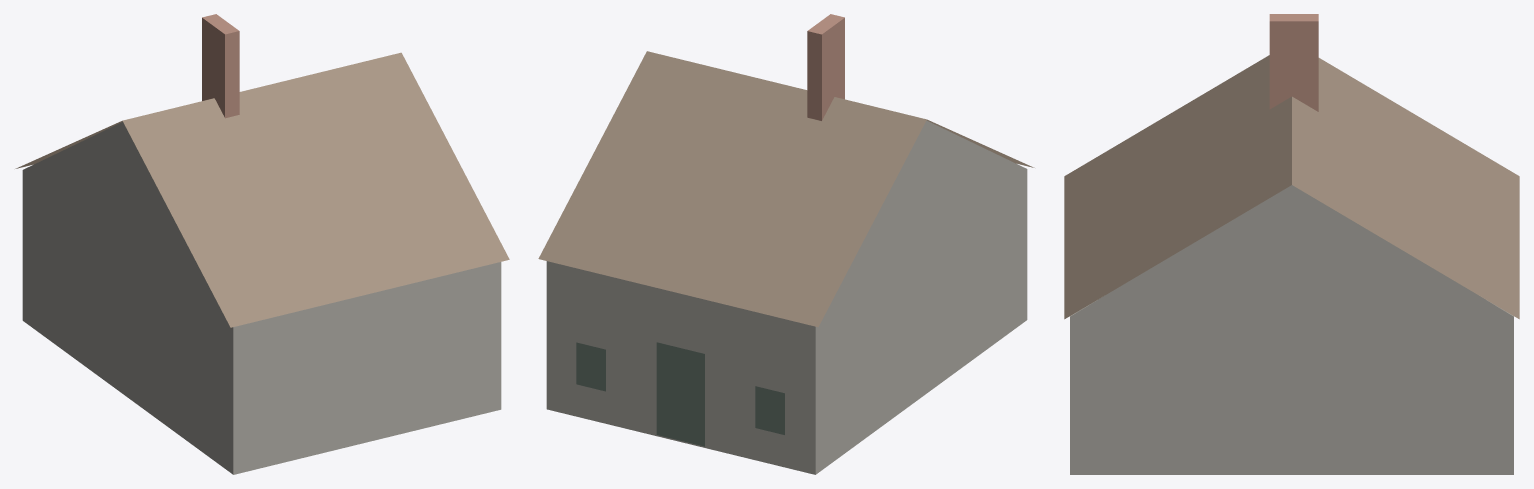
Rendered from recon_1835_north_d6_044__recommended_1835.glb.
3 renders of one model, left to right at view 1: azimuth 30°, elevation 25°; view 2: azimuth 150°, elevation 25°; view 3: azimuth 270°, elevation 25°, orthographic. The views are drawn at different scales.
Parts seen in each view (by area): view 1: recon_1835_north_d6_044__recommended_1835; view 2: recon_1835_north_d6_044__recommended_1835; view 3: recon_1835_north_d6_044__recommended_1835.
Boxes of the visible parts, box(x1,y1,x2,y2) form: recon_1835_north_d6_044__recommended_1835: box(15, 14, 509, 474); recon_1835_north_d6_044__recommended_1835: box(538, 14, 1034, 474); recon_1835_north_d6_044__recommended_1835: box(1064, 14, 1519, 474).
Size of the model in its own units: 6.99 by 8.37 by 9.38.
